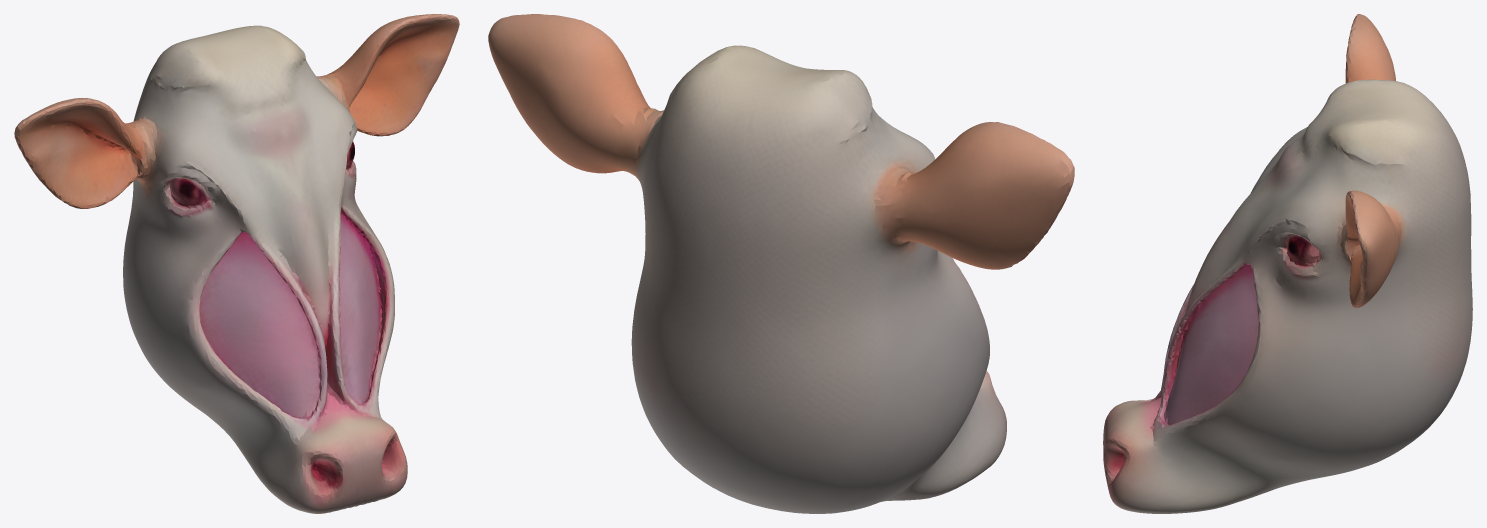
The model's file is cow_udder.glb.
3 renders of one model, left to right at view 1: azimuth 30°, elevation 25°; view 2: azimuth 150°, elevation 25°; view 3: azimuth 270°, elevation 25°, orthographic. The views are drawn at different scales.
Visible parts, largest first — view 1: model; view 2: model; view 3: model.
Part boxes in pixels (bbox=[...]): model: bbox=[14, 14, 459, 513]; model: bbox=[488, 14, 1074, 513]; model: bbox=[1103, 14, 1472, 513].
Size of the model in its own units: 1.9 by 1.55 by 1.32.
1 material, 1 textured.
